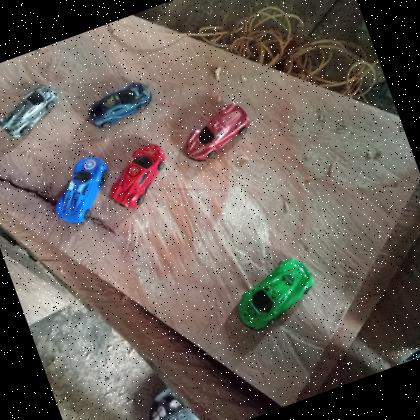Car: (224, 250, 326, 336), (38, 150, 124, 232), (97, 138, 181, 216), (174, 98, 259, 166), (0, 80, 68, 145), (83, 77, 159, 134)
